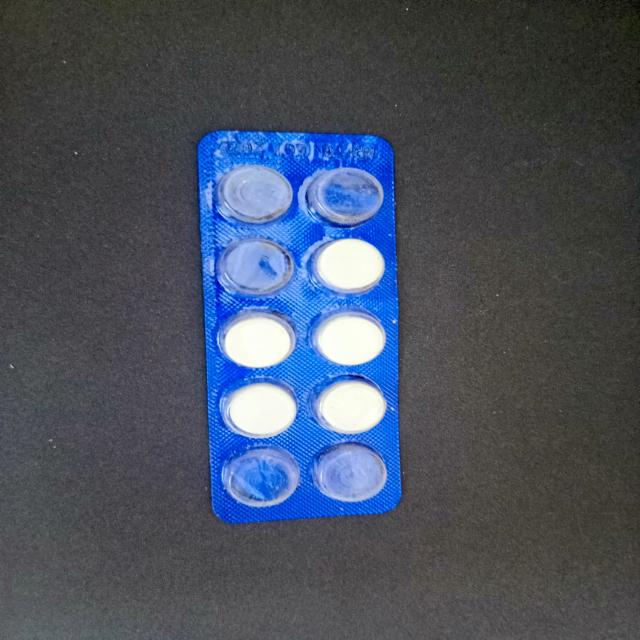defect: (302, 166, 388, 228), (213, 163, 295, 226), (220, 446, 302, 509), (215, 236, 296, 299), (311, 442, 391, 505)
